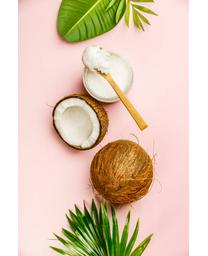coconut: (90, 140, 154, 205), (52, 93, 109, 150)
